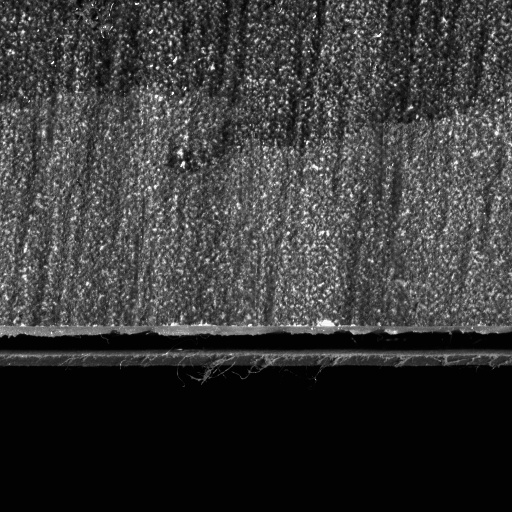kaijiao: (0, 319, 511, 372)
